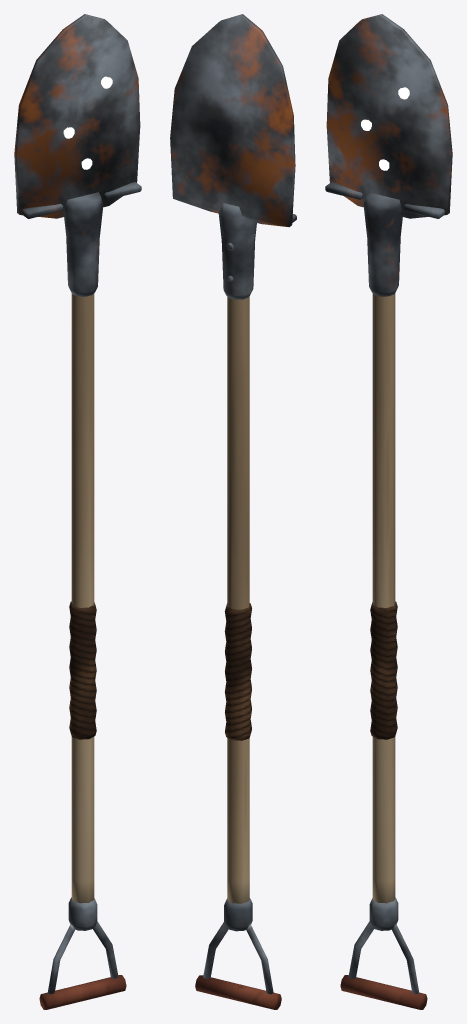
File: GraveShovel.fbx
3 views of the same model, side by side, from view 1: azimuth 30°, elevation 25°; view 2: azimuth 150°, elevation 25°; view 3: azimuth 330°, elevation 25° (orthographic).
Visible parts, largest first — view 1: GraveShovel; view 2: GraveShovel; view 3: GraveShovel.
Boxes of the visible parts, box(x1,y1,x2,y2) form: GraveShovel: box(14, 14, 141, 1009); GraveShovel: box(170, 14, 296, 1009); GraveShovel: box(325, 14, 452, 1009).
Size of the model in its own units: 0.236 by 1.81 by 0.0647.
